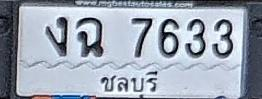3: (185, 18, 206, 58), (212, 18, 233, 58)
6: (158, 18, 180, 57)
7: (131, 17, 152, 57)
A07: (45, 16, 68, 56)
A09: (76, 16, 104, 56)
CBI: (96, 68, 160, 98)
